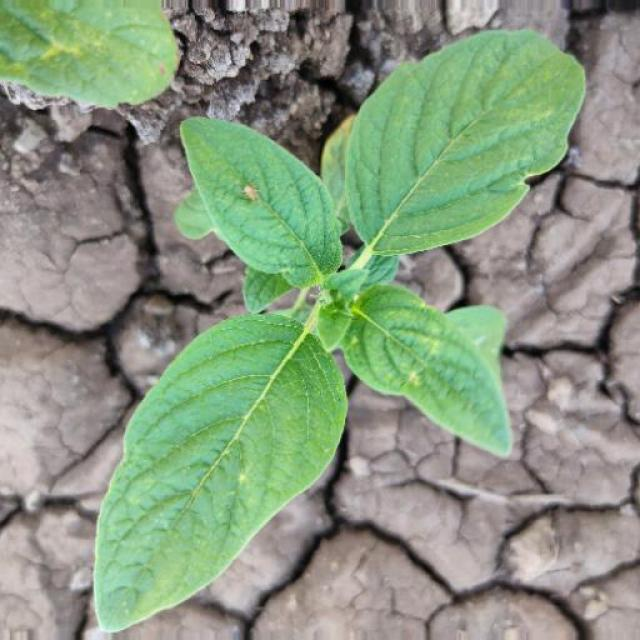crop: (72, 24, 598, 640)
